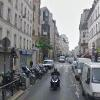Motorcycle: (45, 66, 65, 91)
